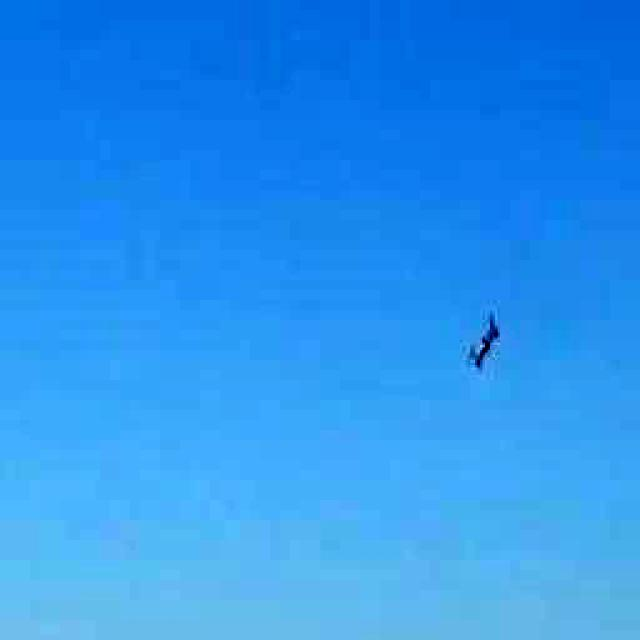bird: (445, 304, 522, 381)
